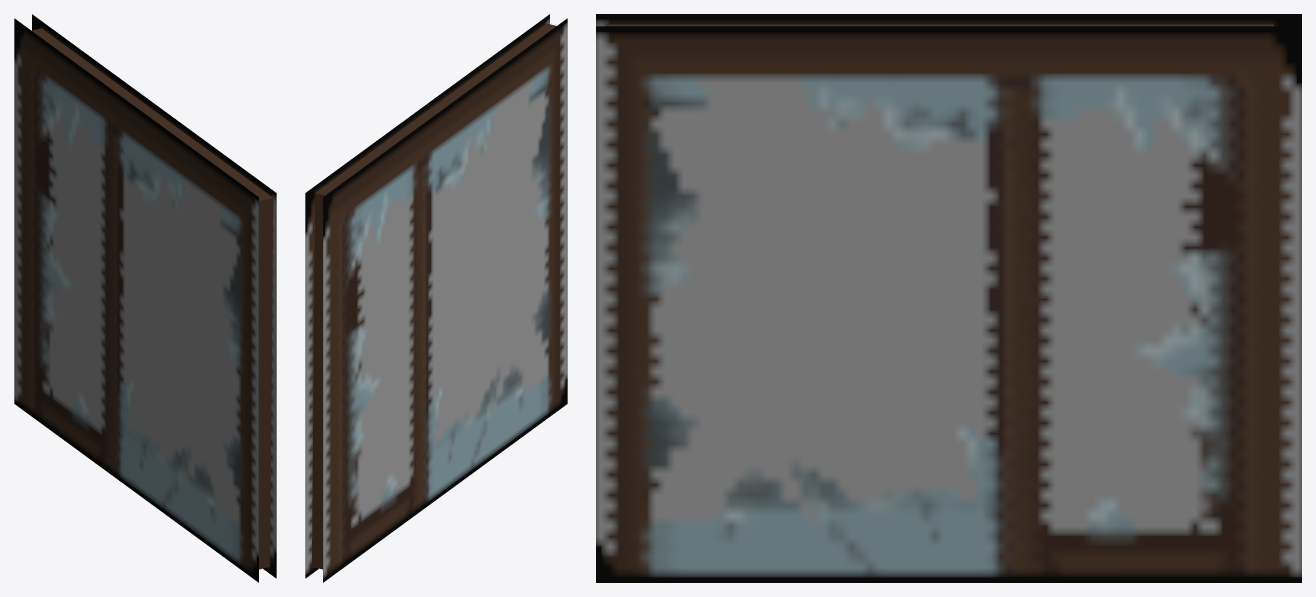
The model's file is pz_native_location_hospitality_sunstarmotel_01_36_frame.obj.
3 views of the same model, side by side, from view 1: azimuth 30°, elevation 25°; view 2: azimuth 150°, elevation 25°; view 3: azimuth 270°, elevation 25° (orthographic). The views are drawn at different scales.
Parts seen in each view (by area): view 1: pz_native_location_hospitality_sunstarmotel_01_36_frame; view 2: pz_native_location_hospitality_sunstarmotel_01_36_frame; view 3: pz_native_location_hospitality_sunstarmotel_01_36_frame.
Part boxes in pixels (x1,y1,x2,y2): pz_native_location_hospitality_sunstarmotel_01_36_frame: [14, 14, 276, 582]; pz_native_location_hospitality_sunstarmotel_01_36_frame: [305, 14, 567, 582]; pz_native_location_hospitality_sunstarmotel_01_36_frame: [596, 14, 1301, 582].
Bounding box in the file's own units: 0.04 × 0.8438 × 0.9696.
1 material, 1 textured.
